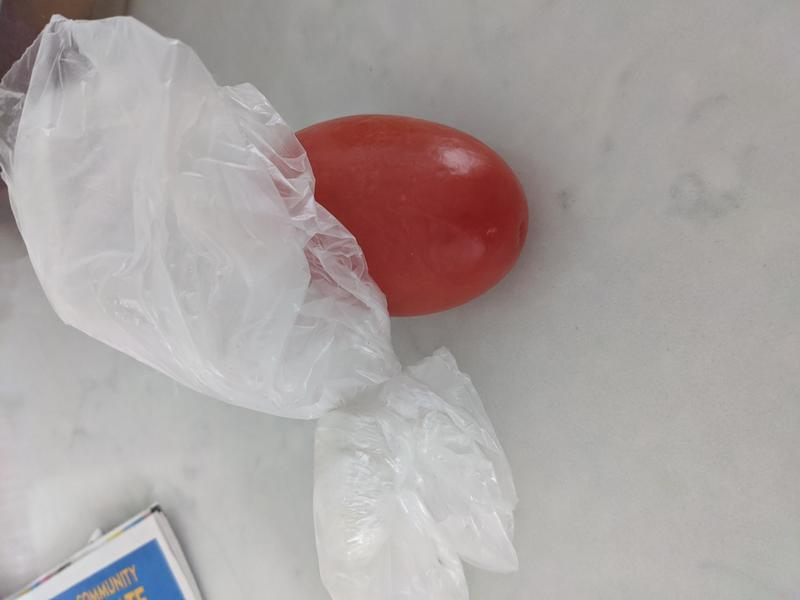tomato: (252, 113, 531, 318)
